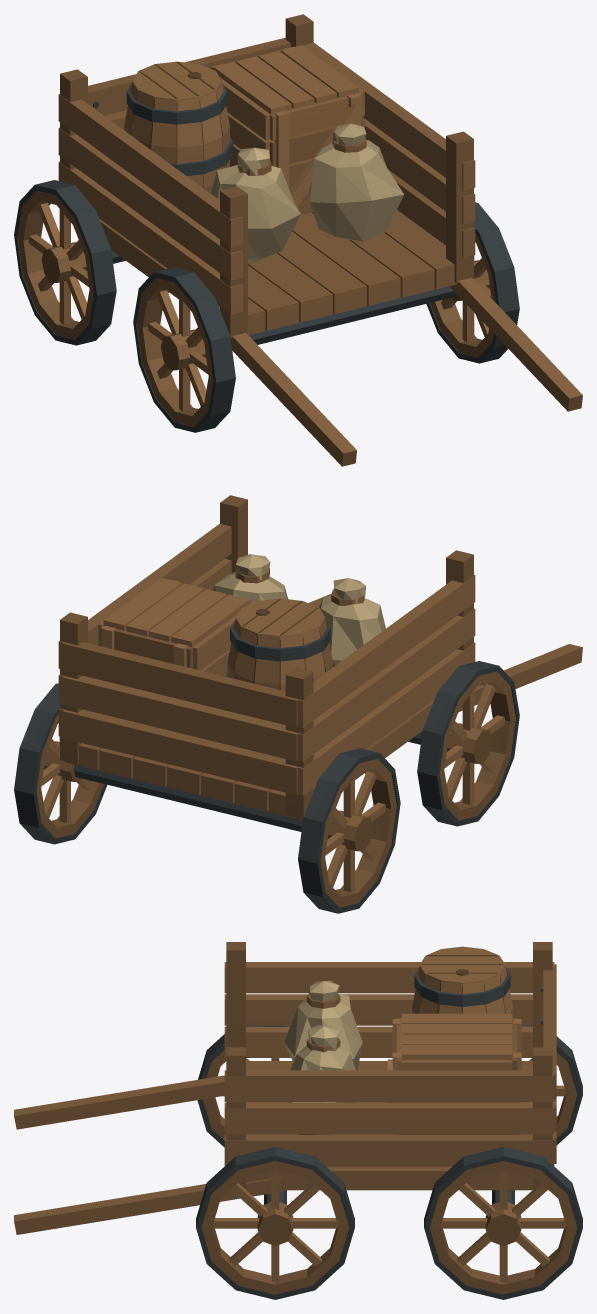
Rendered from town_cart_goods.glb.
3 views of the same model, one above another, from view 1: azimuth 30°, elevation 25°; view 2: azimuth 150°, elevation 25°; view 3: azimuth 270°, elevation 25° (orthographic). The views are drawn at different scales.
Visible parts, largest first — view 1: town_cart_goods; view 2: town_cart_goods; view 3: town_cart_goods.
Boxes of the visible parts, bbox=[...] form: town_cart_goods: bbox=[14, 14, 582, 466]; town_cart_goods: bbox=[14, 495, 582, 913]; town_cart_goods: bbox=[14, 942, 582, 1299].
Size of the model in its own units: 1.94 by 1.5 by 3.19.
